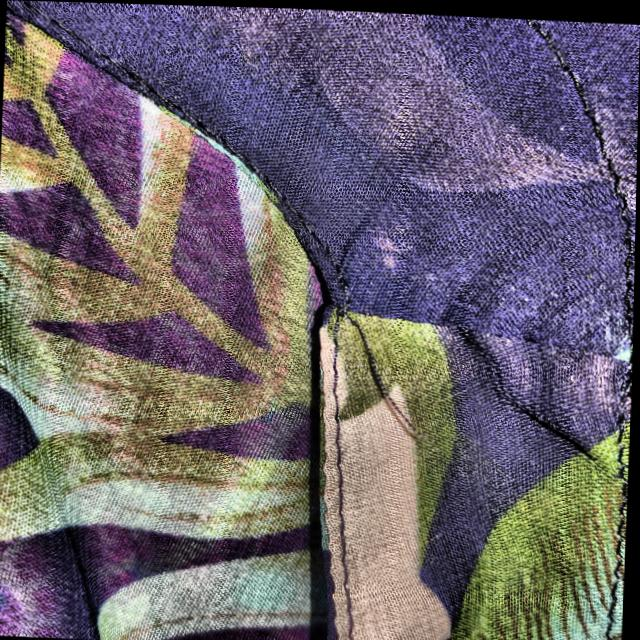Stitch: (283, 286, 460, 485)
